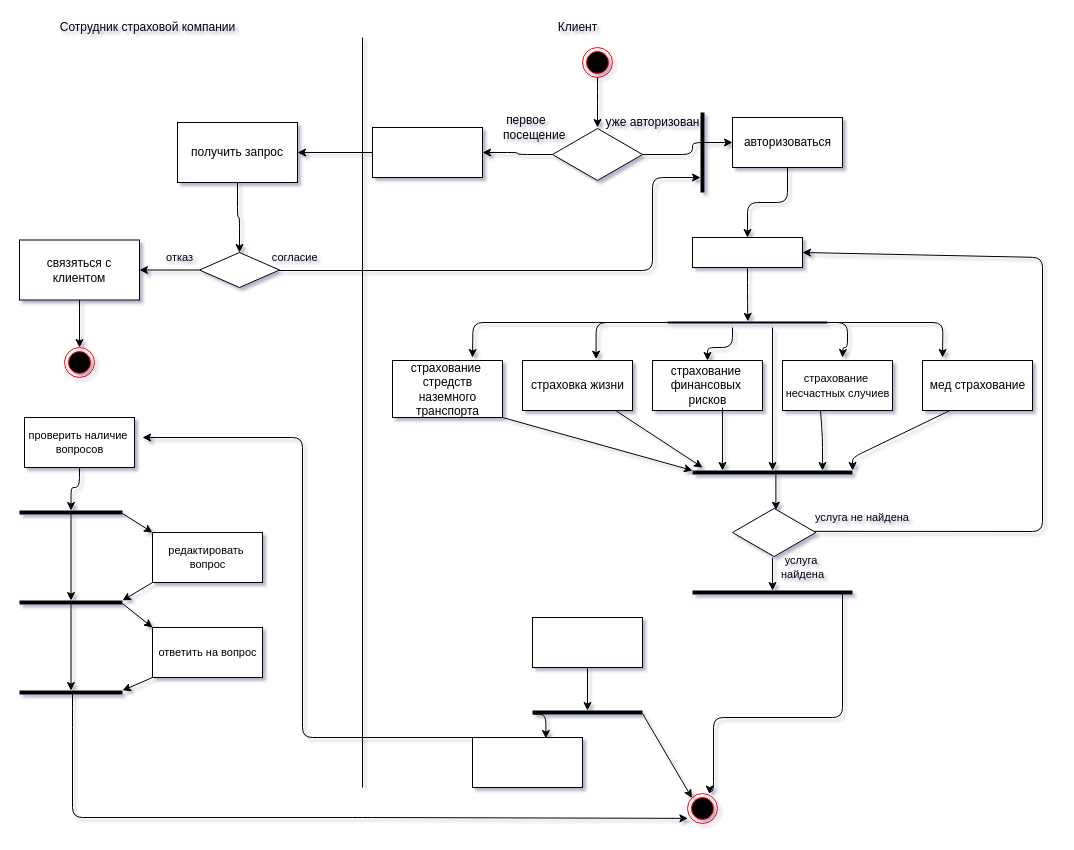
This 1074x850 diagram has some shape labels left out. Here are the shapes that lost their labels. From the top down, the centre of each, then its label:
At point 427,152: "подать запрос на регистрацию".
At point 747,252: "просмотр списка услуг".
At point 587,642: "развернуть услугу".
At point 527,762: "оставить запрос".
